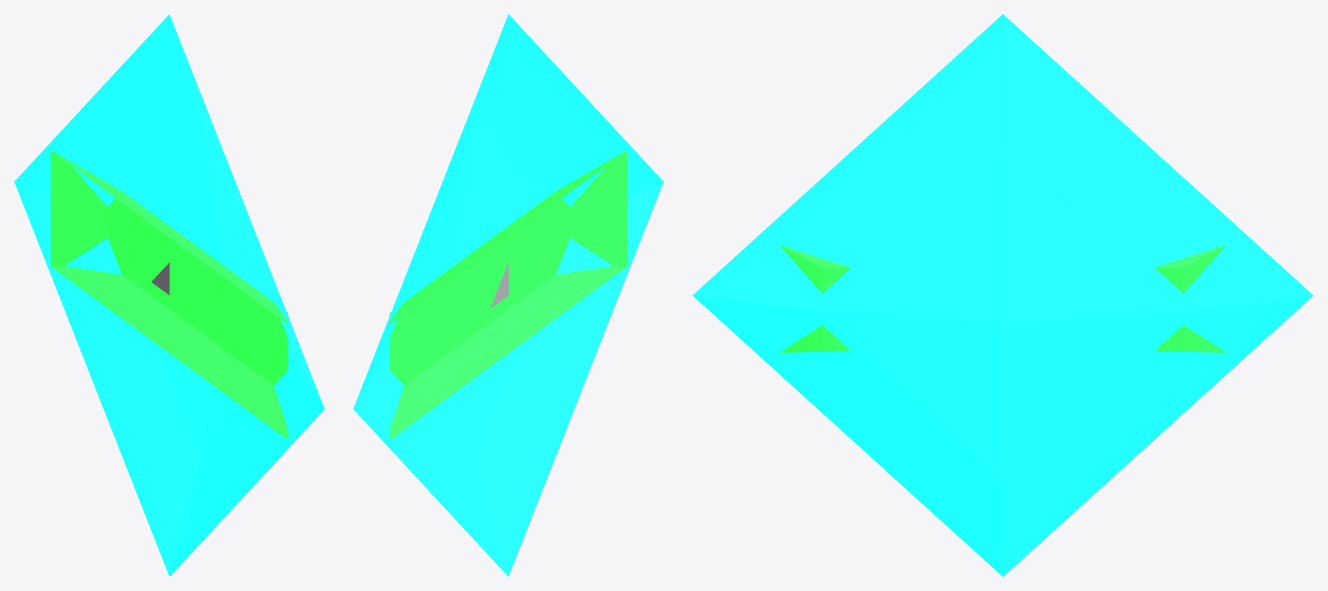
The model's file is skirt_neon_gems.glb.
3 renders of one model, left to right at view 1: azimuth 30°, elevation 25°; view 2: azimuth 150°, elevation 25°; view 3: azimuth 270°, elevation 25°, orthographic.
Parts seen in each view (by area): view 1: MOTIF_gem_neon, MOTIF_marker_led; view 2: MOTIF_gem_neon, MOTIF_marker_led; view 3: MOTIF_gem_neon, MOTIF_marker_led.
Part boxes in pixels (left/top/right/bottom): MOTIF_gem_neon: left=14, top=14, right=324, bottom=576; MOTIF_marker_led: left=50, top=151, right=288, bottom=439; MOTIF_gem_neon: left=353, top=14, right=663, bottom=576; MOTIF_marker_led: left=389, top=151, right=627, bottom=439; MOTIF_gem_neon: left=692, top=14, right=1313, bottom=576; MOTIF_marker_led: left=779, top=245, right=1226, bottom=352.
Bounding box in the file's own units: 0.018 × 0.17 × 0.17.
